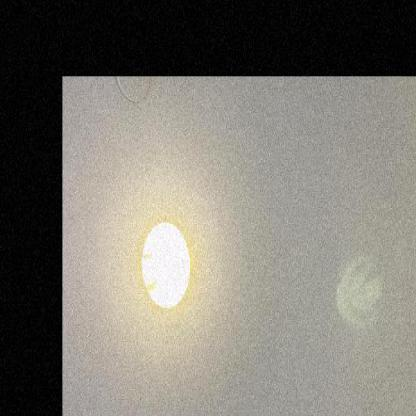light_on: (132, 206, 202, 325)
